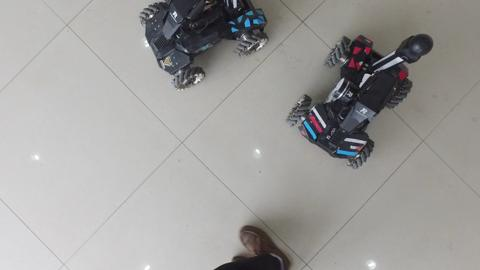chariot: (285, 29, 447, 177), (136, 1, 269, 95)
